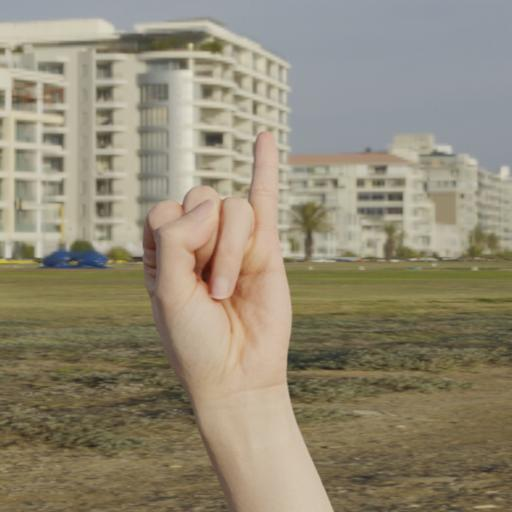I: (119, 107, 376, 434)
